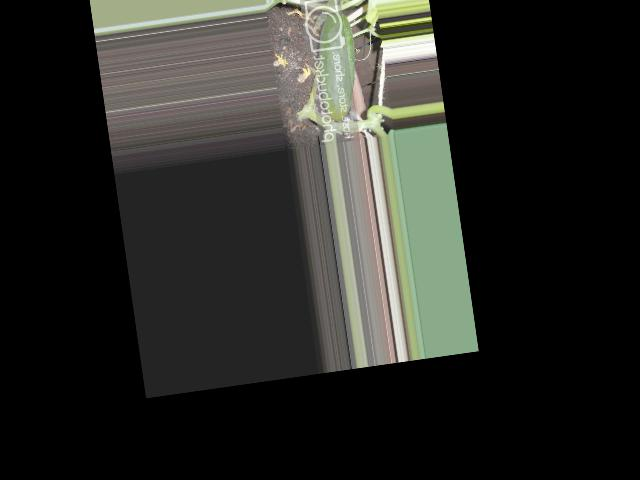cucumber: (309, 11, 363, 121)
